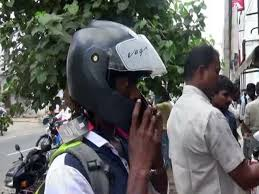helmet: (72, 17, 162, 138)
